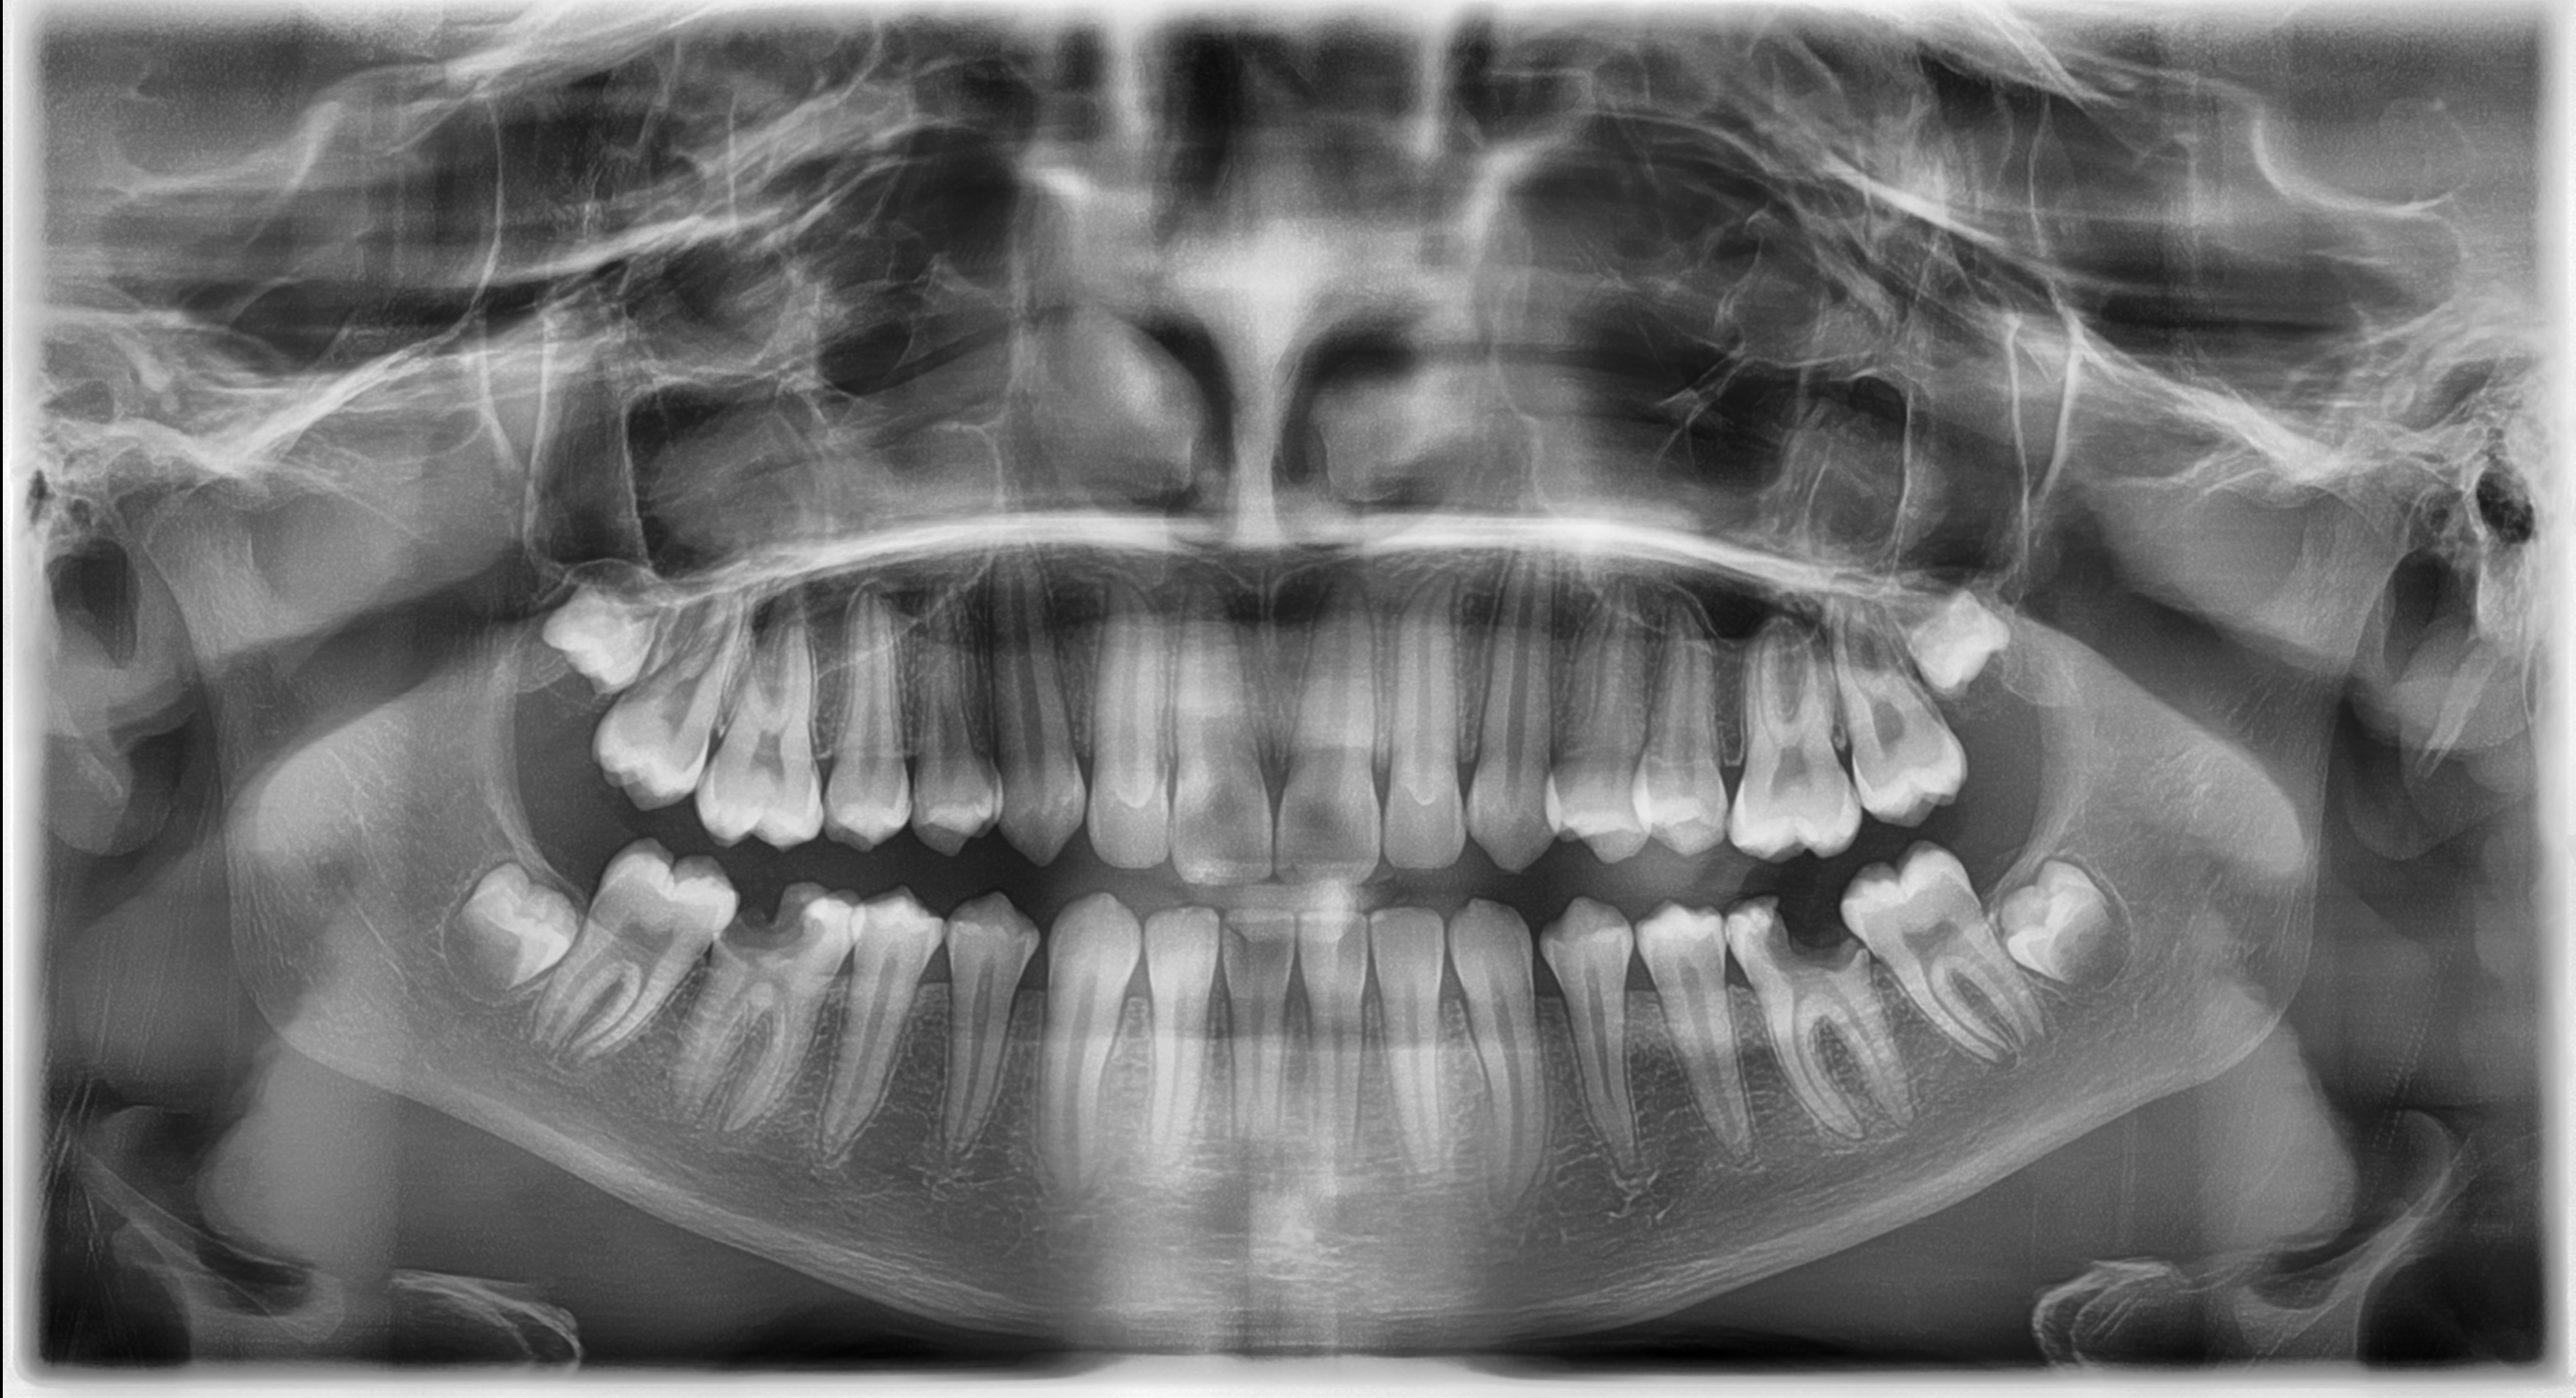caries: (1710, 878, 1908, 1042), (694, 876, 870, 1012)
cordal: (505, 535, 715, 720), (406, 837, 616, 1021), (1965, 840, 2175, 1024), (1855, 544, 2065, 728)
